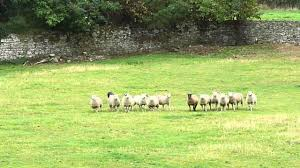sheep: (159, 93, 177, 111), (229, 90, 245, 110), (245, 90, 260, 111), (87, 95, 105, 112), (184, 92, 200, 111), (121, 92, 136, 111), (106, 92, 121, 111), (210, 91, 223, 111), (198, 94, 214, 110), (148, 95, 165, 110), (136, 95, 151, 110), (219, 93, 229, 113)
